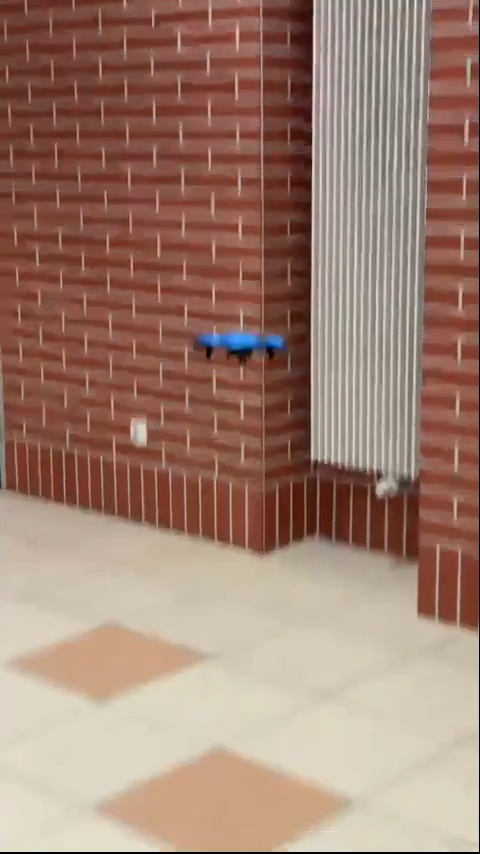drone: (194, 329, 284, 374)
